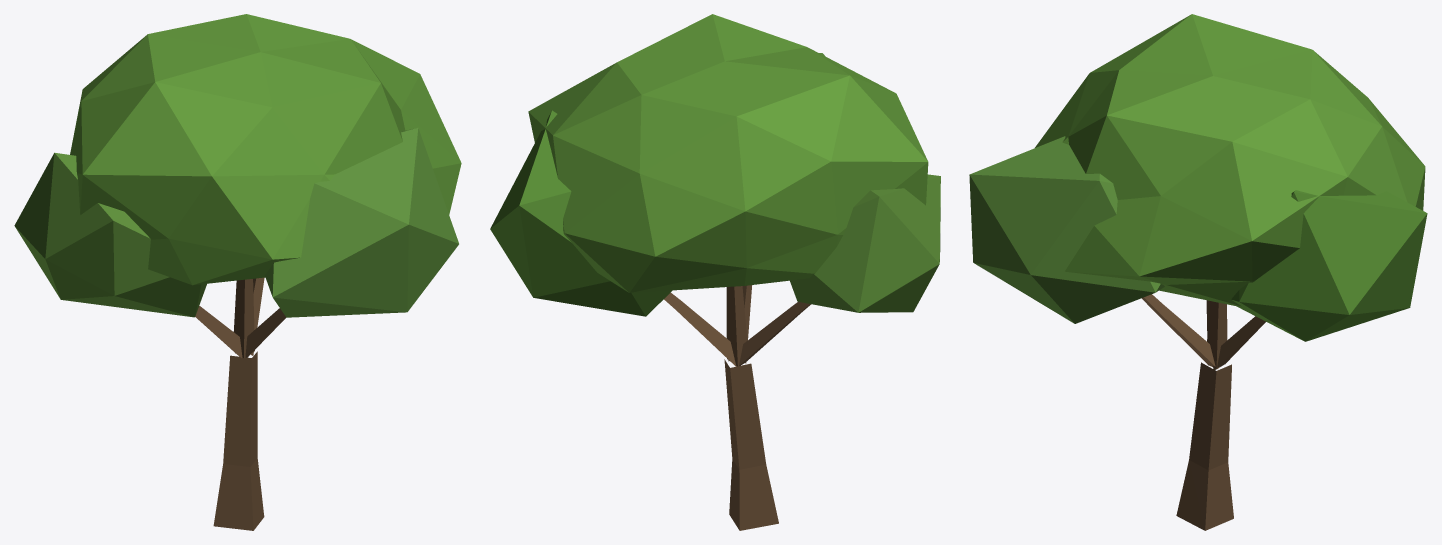
File: broadleaf_a_lod1.glb
The picture shows the model from 3 angles, left to right: view 1: azimuth 30°, elevation 25°; view 2: azimuth 150°, elevation 25°; view 3: azimuth 270°, elevation 25°; orthographic projection.
Visible parts, largest first — view 1: broadleaf; view 2: broadleaf; view 3: broadleaf.
Boxes of the visible parts, x1,y1,x2,y2 form: broadleaf: [14, 14, 461, 530]; broadleaf: [490, 14, 940, 530]; broadleaf: [969, 14, 1427, 530].
Bounding box in the file's own units: 7.79 × 8.8 × 7.92.
